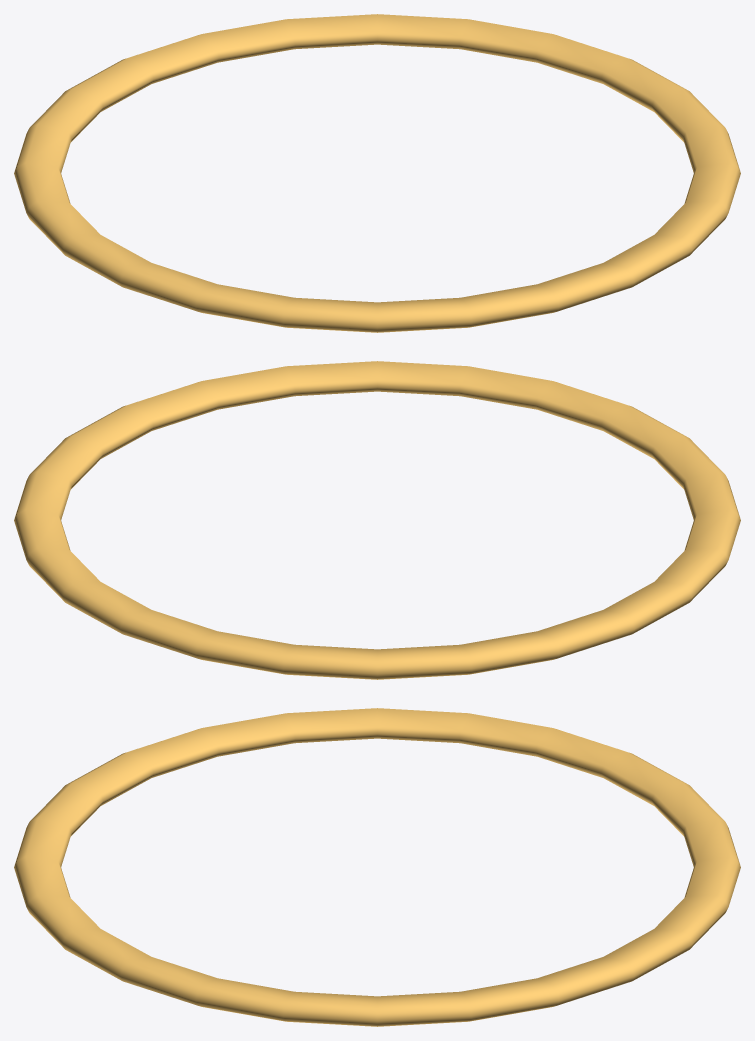
The model's file is ring_gold.fbx.
3 renders of one model, top to bottom at view 1: azimuth 30°, elevation 25°; view 2: azimuth 150°, elevation 25°; view 3: azimuth 270°, elevation 25°, orthographic.
Parts seen in each view (by area): view 1: Torus001; view 2: Torus001; view 3: Torus001.
Boxes of the visible parts, x1,y1,x2,y2 form: Torus001: (14,14,740,332); Torus001: (14,361,740,679); Torus001: (14,708,740,1026).
Bounding box in the file's own units: 34.39 × 1.12 × 34.39.
Materials: 1 (1 with a texture image).
